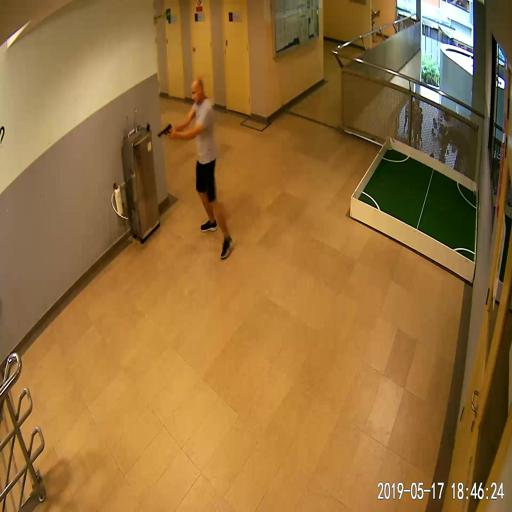pistol: (157, 122, 174, 138)
